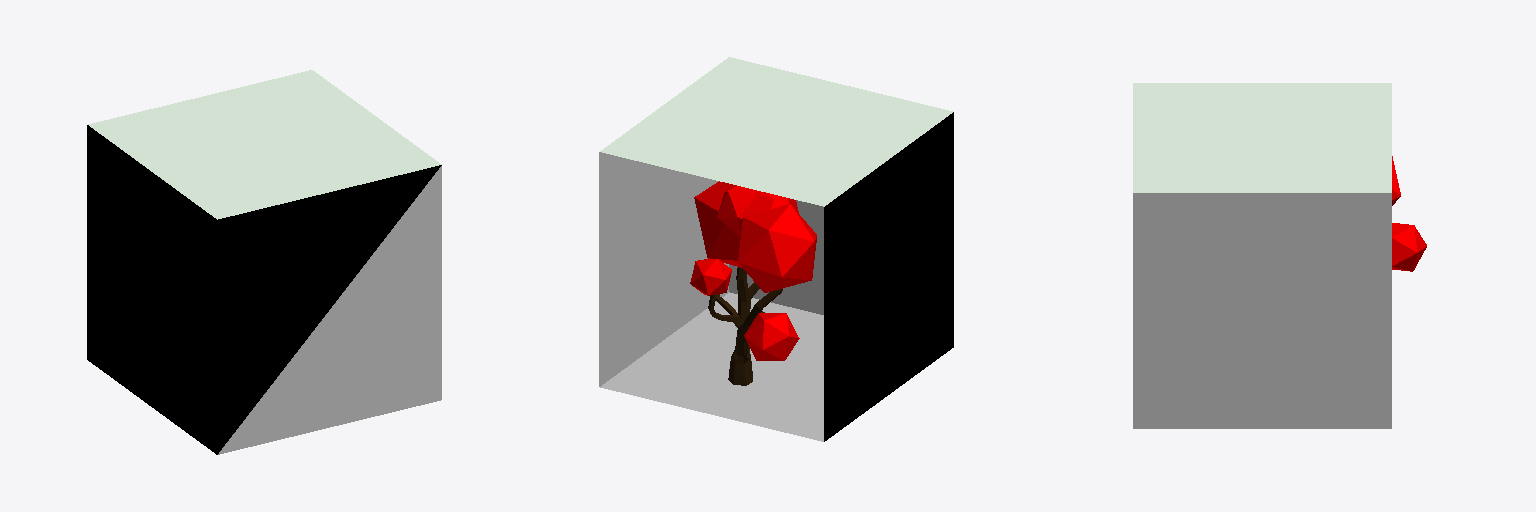
File: caja2.obj
The picture shows the model from 3 angles: view 1: azimuth 30°, elevation 25°; view 2: azimuth 150°, elevation 25°; view 3: azimuth 270°, elevation 25°; orthographic projection.
Parts seen in each view (by area): view 1: Cube; view 2: Cube, Tree_lp_11; view 3: Cube, Tree_lp_11.
Part boxes in pixels (x1,y1,x2,y2): Cube: (87, 70, 441, 454); Cube: (599, 57, 953, 441); Tree_lp_11: (690, 181, 816, 385); Cube: (1133, 83, 1391, 428); Tree_lp_11: (1392, 156, 1426, 271).
Bounding box in the file's own units: 2 × 2 × 2.27.